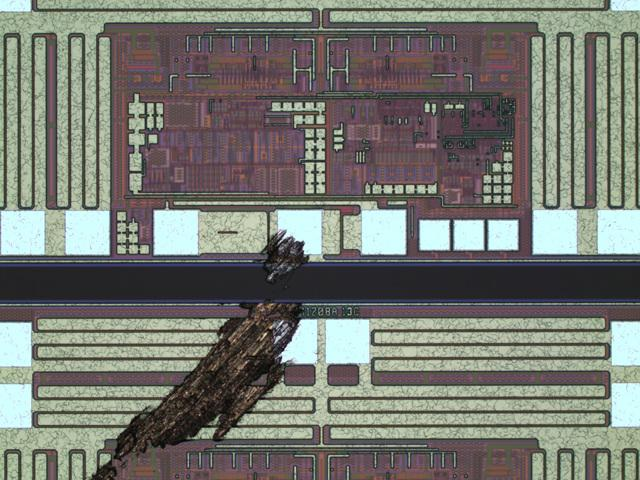SCRATCH: (82, 225, 315, 480)
